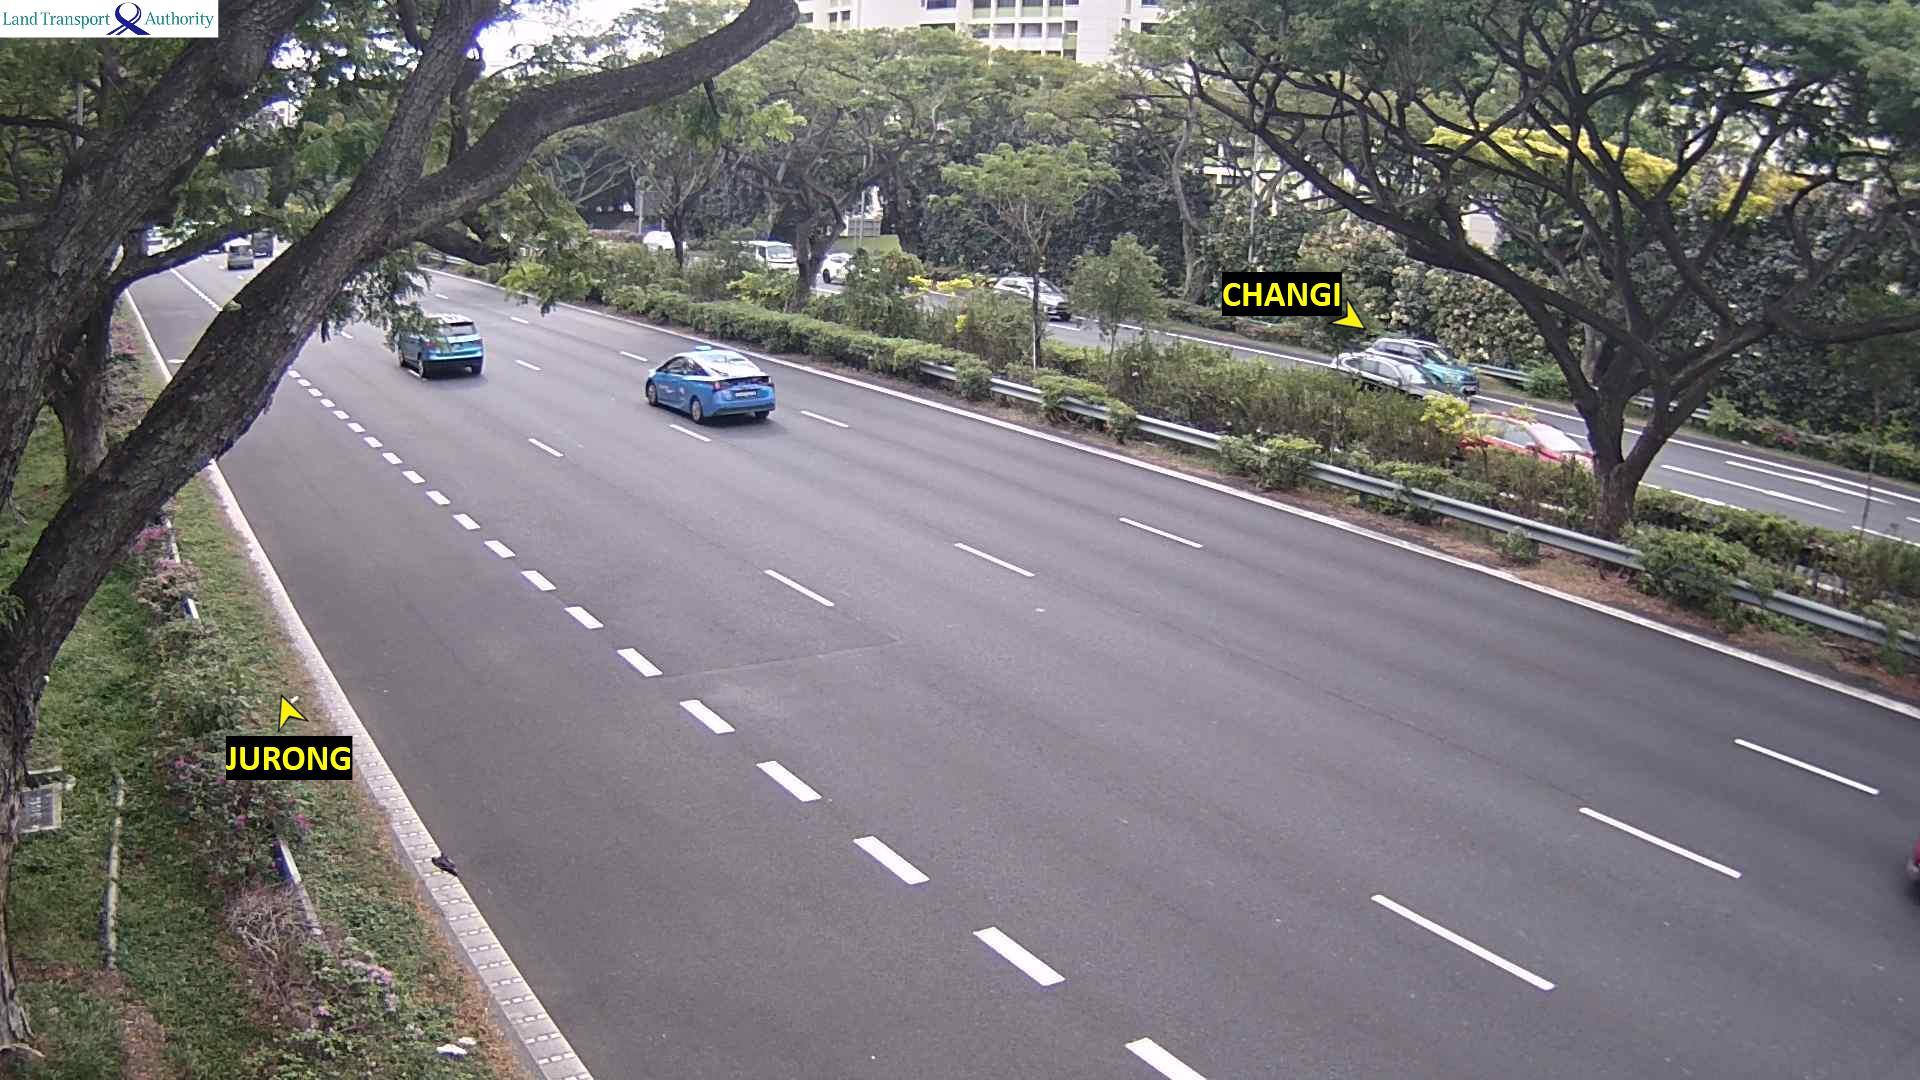incoming: (1412, 343, 1487, 400), (1385, 360, 1458, 414), (1018, 277, 1077, 323), (750, 239, 802, 281)
